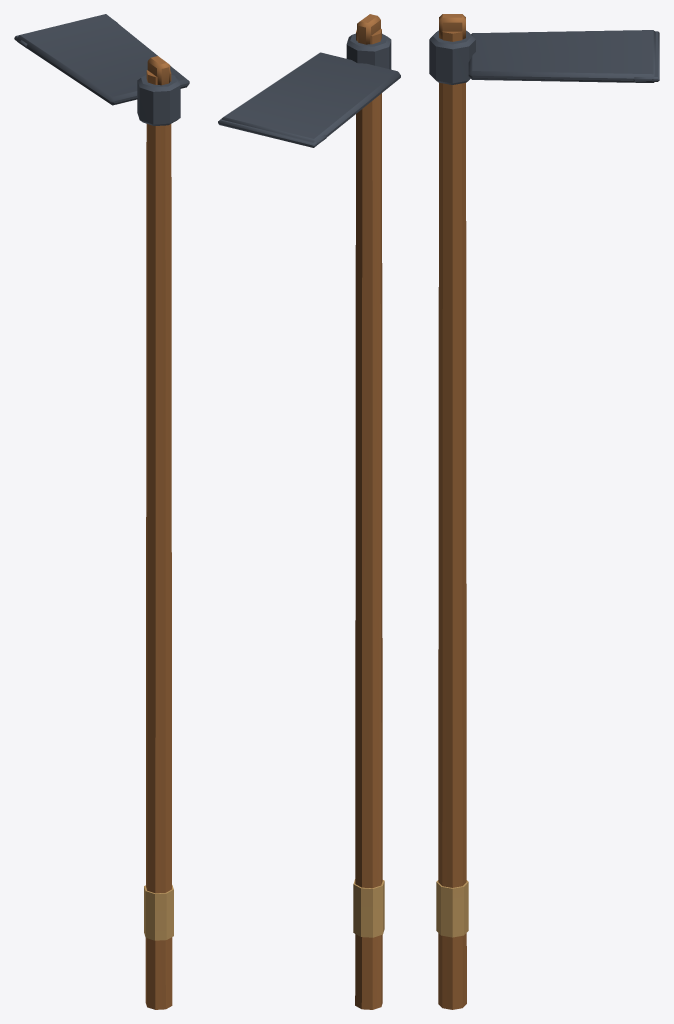
File: hoe.glb
The picture shows the model from 3 angles, left to right: view 1: azimuth 30°, elevation 25°; view 2: azimuth 150°, elevation 25°; view 3: azimuth 270°, elevation 25°; orthographic projection. The views are drawn at different scales.
Parts seen in each view (by area): view 1: Hoe Wood, Hoe Iron, Hoe Rope; view 2: Hoe Wood, Hoe Iron, Hoe Rope; view 3: Hoe Wood, Hoe Iron, Hoe Rope.
Boxes of the visible parts, <box> form: Hoe Wood: <box>145,56,172,1009</box>; Hoe Iron: <box>14,14,189,125</box>; Hoe Rope: <box>144,885,173,940</box>; Hoe Wood: <box>355,14,382,1009</box>; Hoe Iron: <box>218,33,400,147</box>; Hoe Rope: <box>353,879,384,937</box>; Hoe Wood: <box>438,14,466,1009</box>; Hoe Iron: <box>429,30,659,84</box>; Hoe Rope: <box>436,880,468,937</box>.
Size of the model in its own units: 0.125 by 1.22 by 0.257.
